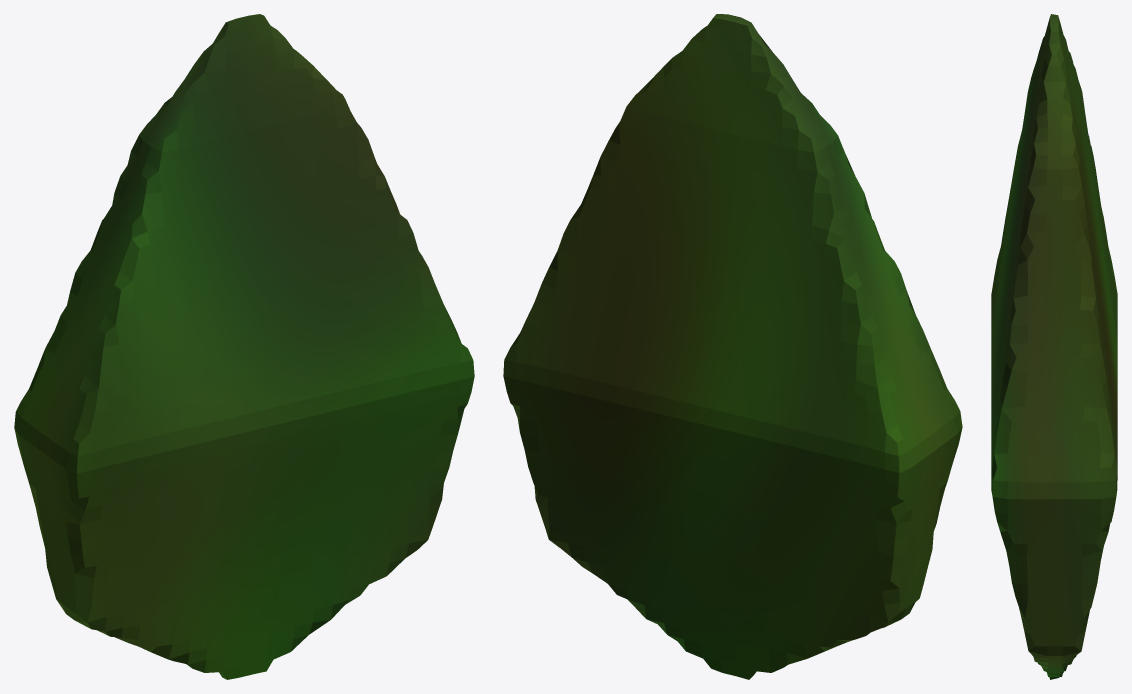
Rendered from Seed.fbx.
3 renders of one model, left to right at view 1: azimuth 30°, elevation 25°; view 2: azimuth 150°, elevation 25°; view 3: azimuth 270°, elevation 25°, orthographic.
Parts seen in each view (by area): view 1: CSGSphere3D2; view 2: CSGSphere3D2; view 3: CSGSphere3D2.
Part boxes in pixels (left/top/right/bottom): CSGSphere3D2: left=14, top=14, right=474, bottom=679; CSGSphere3D2: left=503, top=14, right=962, bottom=679; CSGSphere3D2: left=991, top=14, right=1117, bottom=679.
Size of the model in its own units: 33.63 by 52.35 by 9.23.
Materials: 1 (1 with a texture image).
